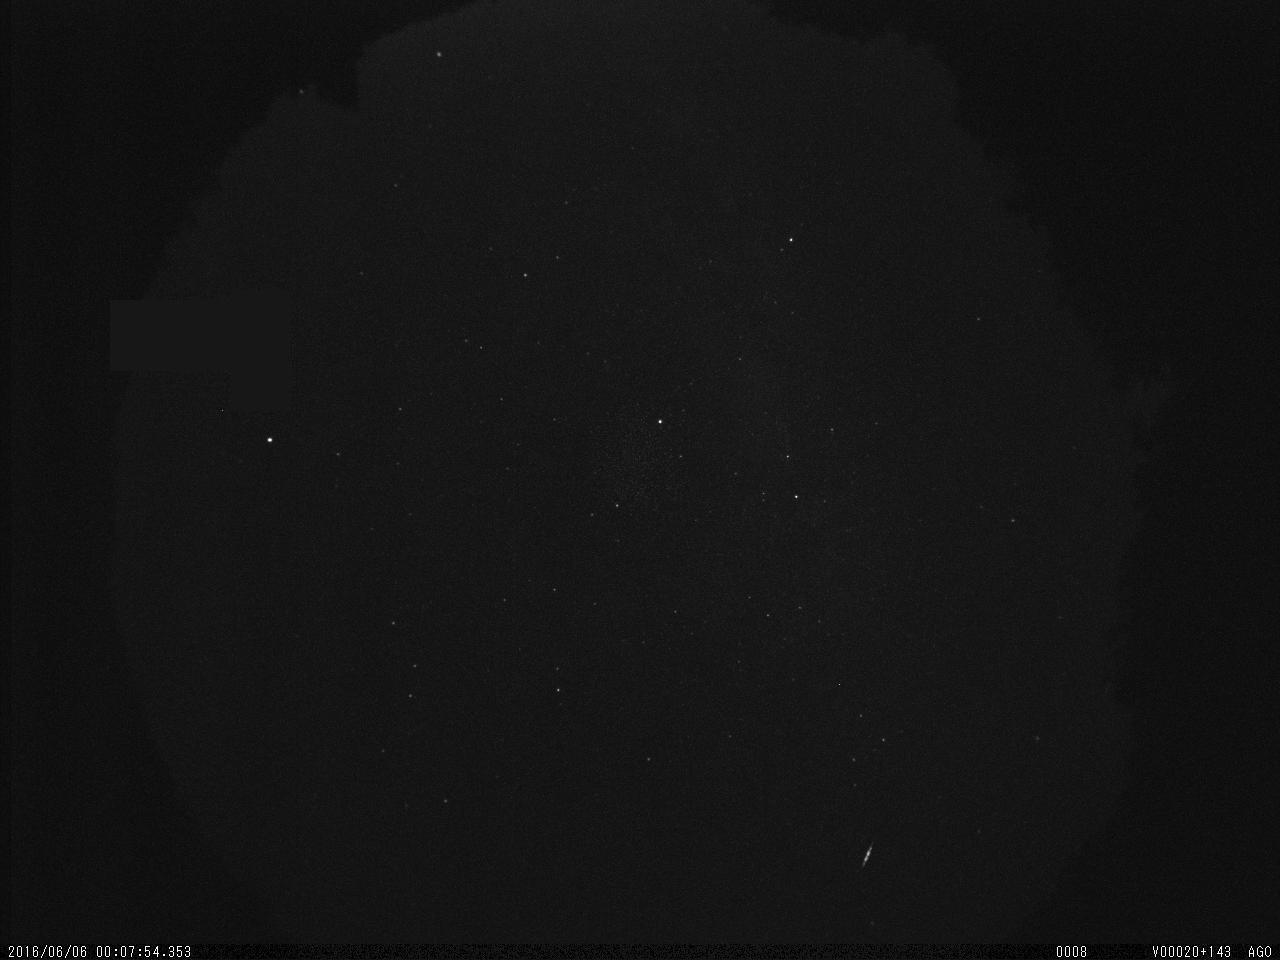meteor: (854, 834, 881, 876)
